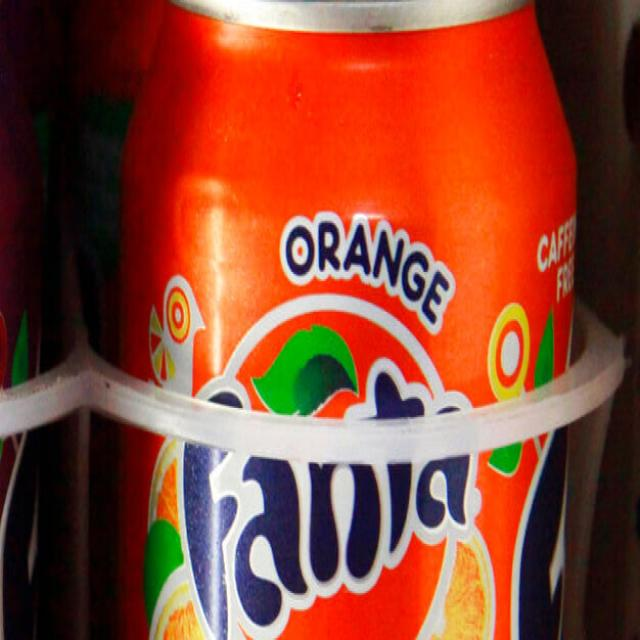fanta: (113, 0, 574, 640)
